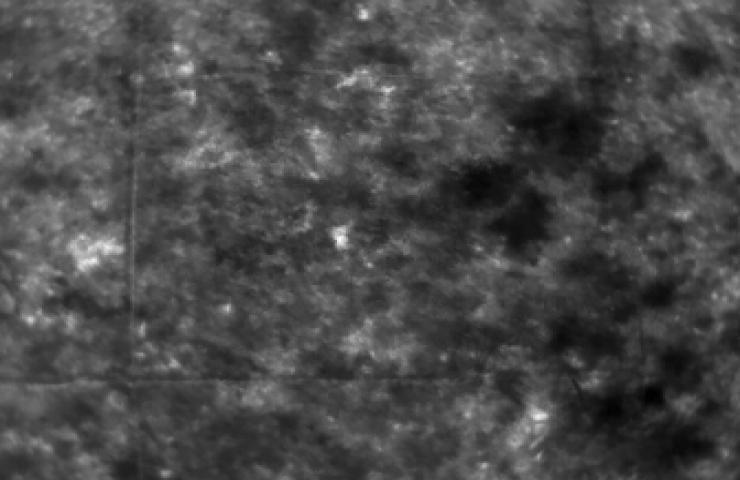landmines: (329, 222, 358, 252)
